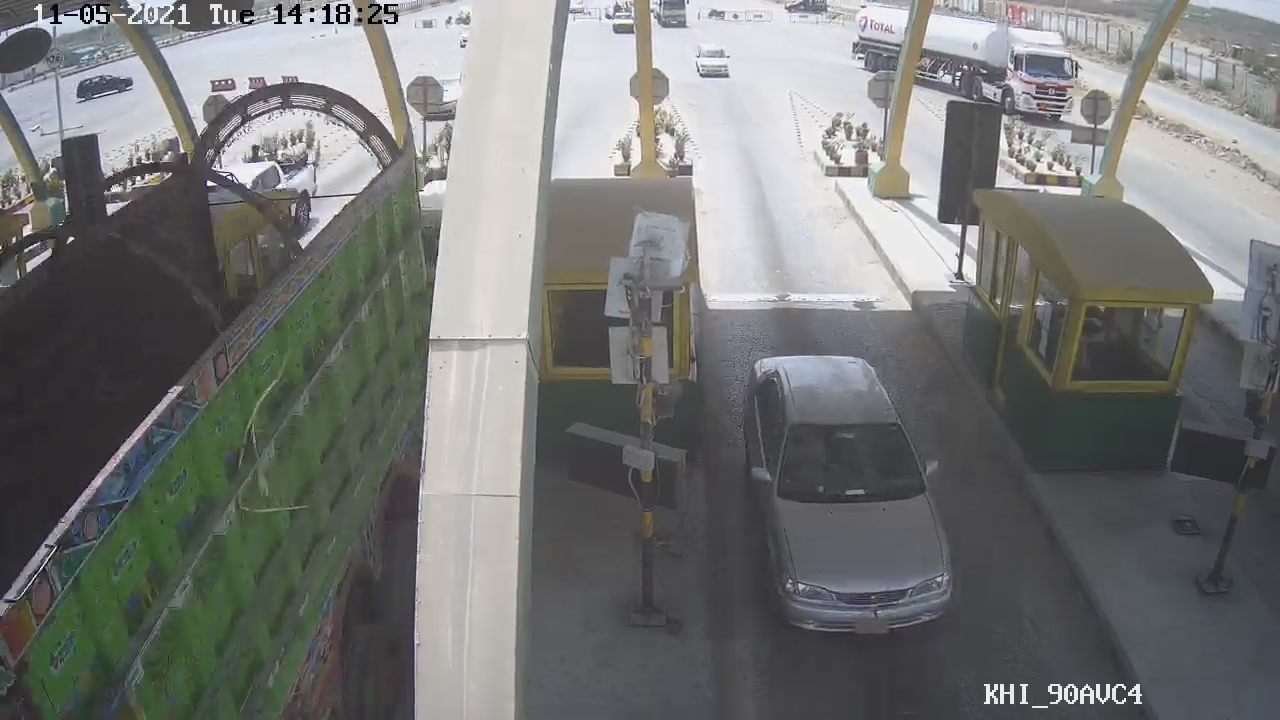F1: (737, 347, 961, 641)
